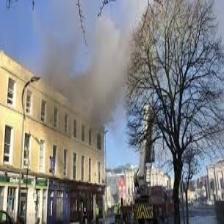smoke: (62, 32, 133, 117)
